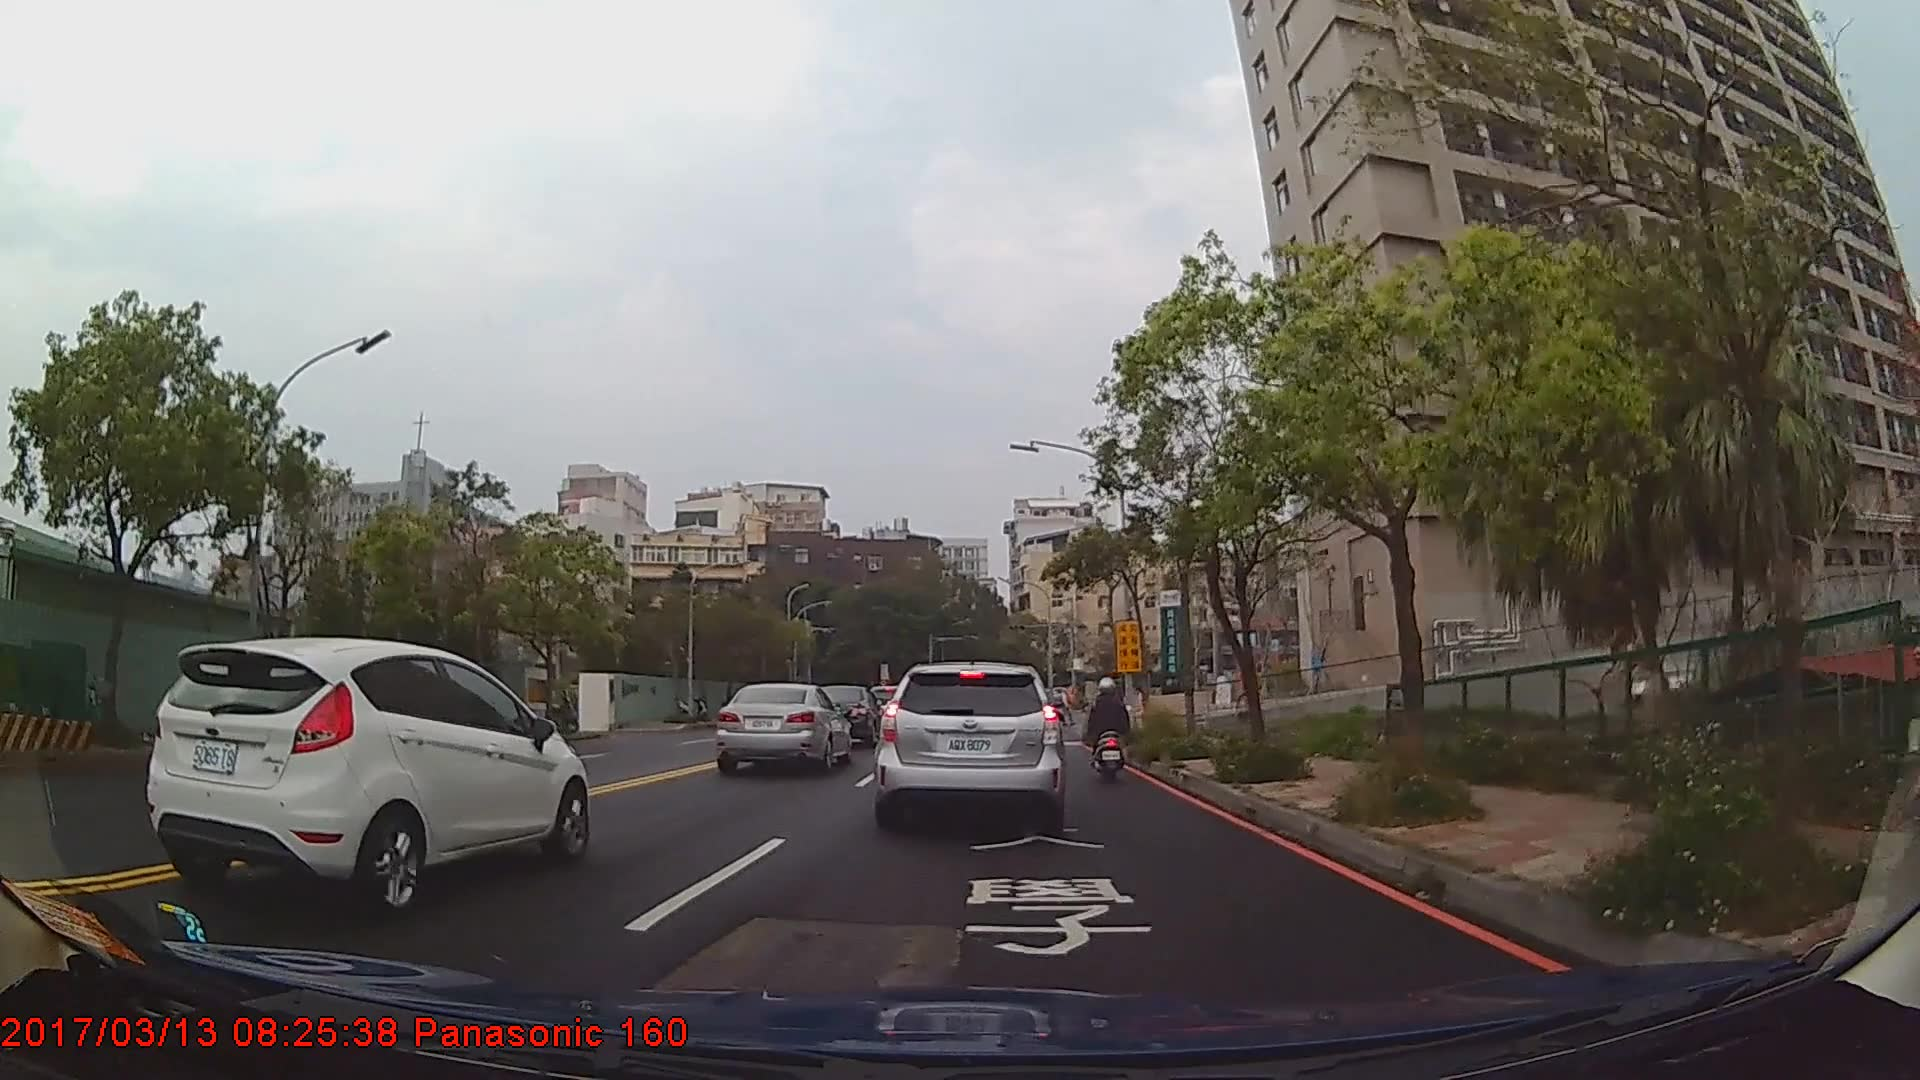rider: (1085, 676, 1131, 785)
vehicle: (143, 632, 589, 917), (873, 660, 1063, 828), (715, 679, 851, 773), (806, 683, 879, 746)
